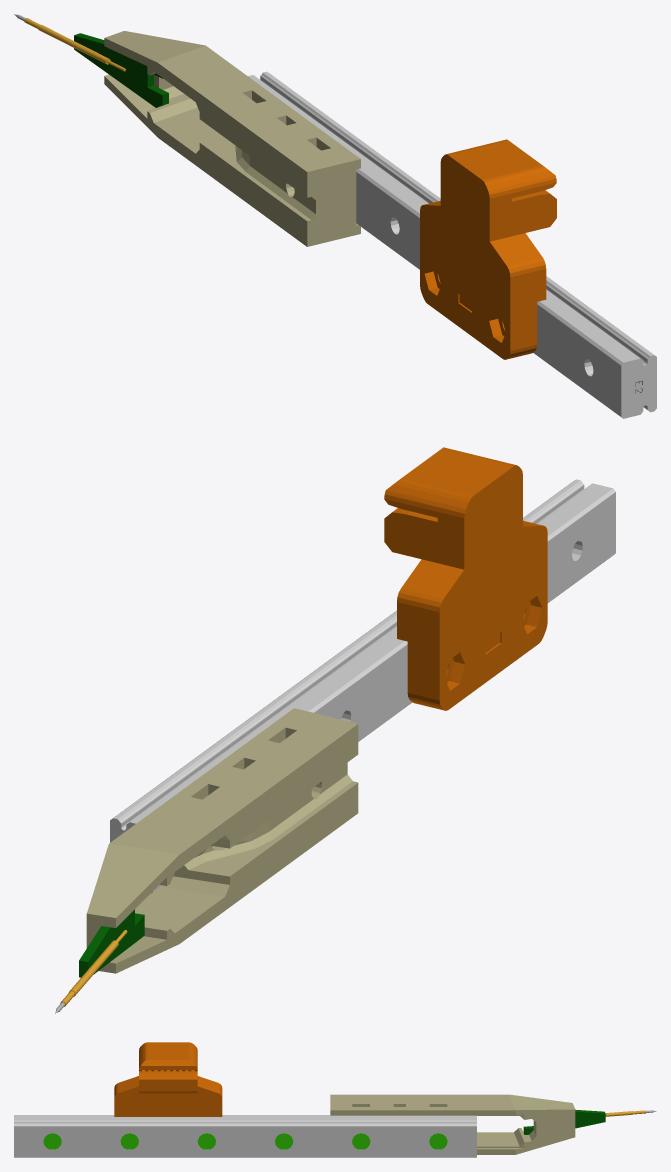
The picture shows the model from 3 angles, top to bottom: view 1: azimuth 30°, elevation 25°; view 2: azimuth 150°, elevation 25°; view 3: azimuth 270°, elevation 25°; orthographic projection. The views are drawn at different scales.
Visible parts, largest first — view 1: probotor; view 2: probotor; view 3: probotor.
Boxes of the visible parts, x1,y1,x2,y2 form: probotor: (14,14,656,418); probotor: (55,447,615,1013); probotor: (14,1042,656,1157).
Bounding box in the file's own units: 24.52 × 37 × 208.
